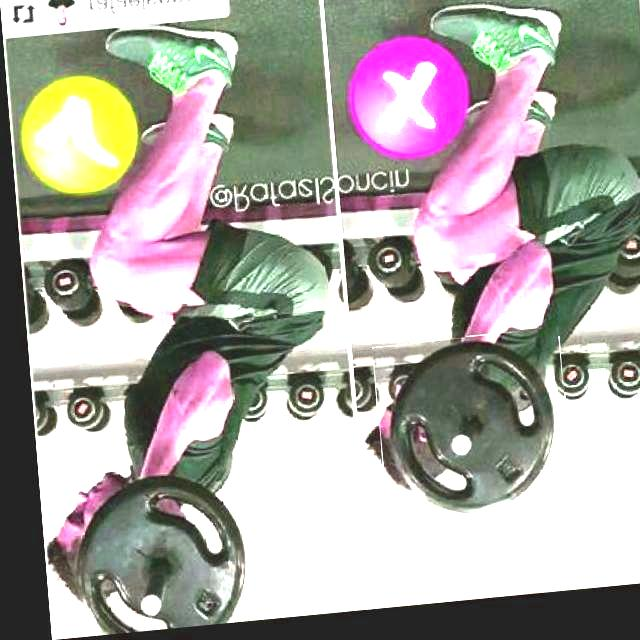barbell: (367, 339, 567, 542)
